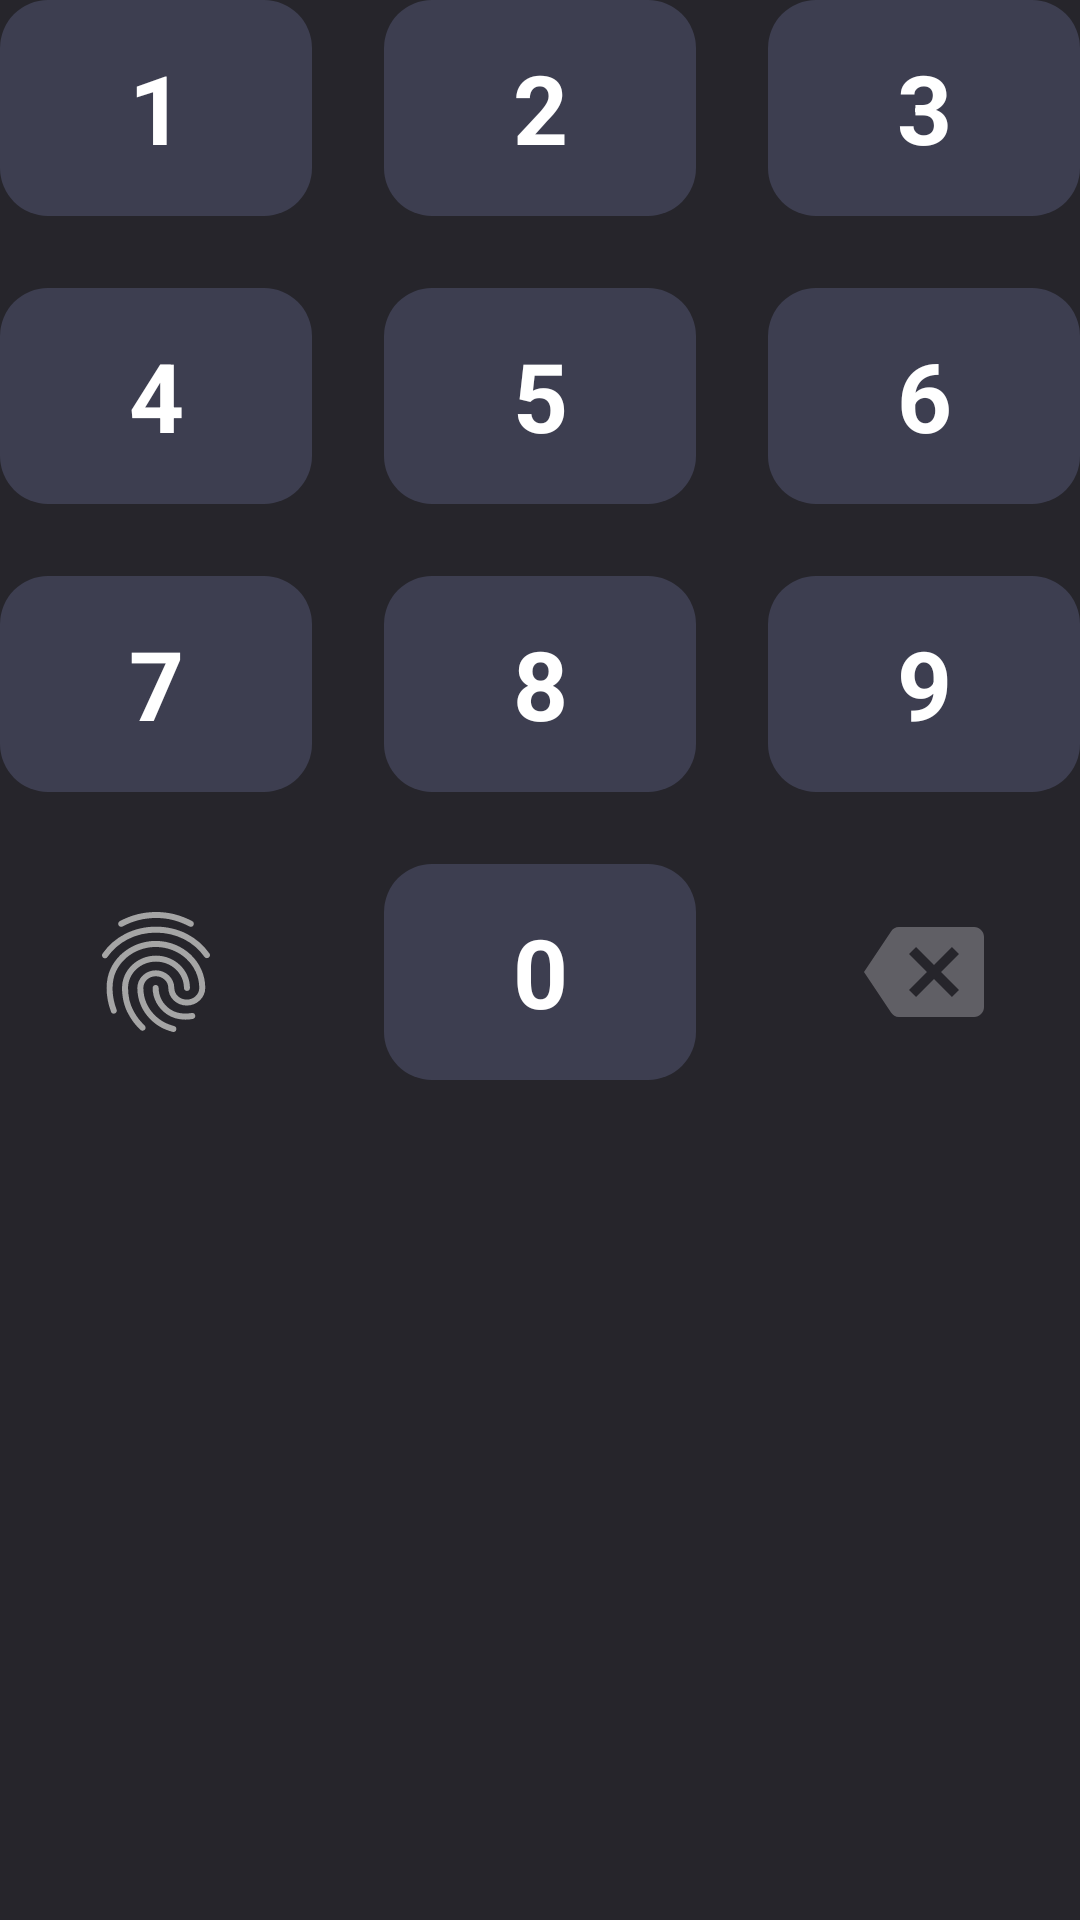

Named icons in this screenshot (1080px x 1920px) and their centers, (x=x, y=y):
backspace: (x=924, y=972)
fingerprint: (x=156, y=972)
